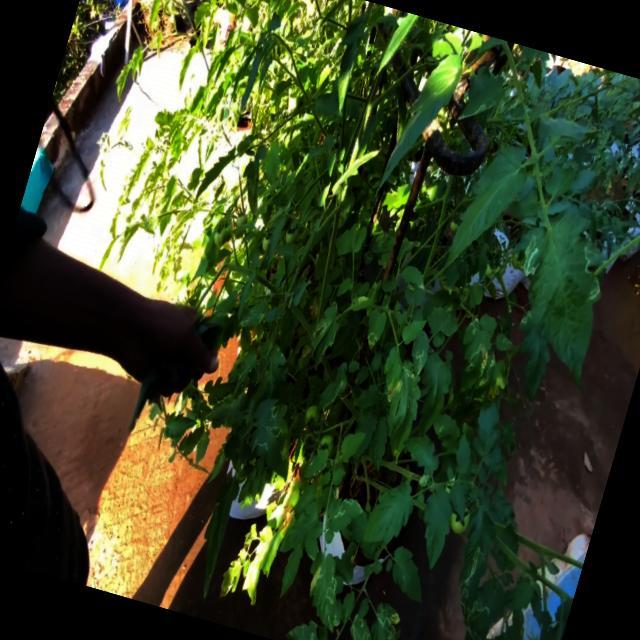Tomato target spot leaf: (490, 201, 624, 388), (442, 504, 503, 623), (238, 392, 308, 483), (446, 308, 509, 406), (499, 307, 562, 405), (297, 550, 353, 634), (303, 298, 346, 374), (455, 68, 507, 130), (316, 358, 352, 418), (321, 492, 365, 538), (360, 600, 409, 640), (404, 327, 434, 378), (360, 305, 390, 352), (236, 294, 270, 332), (282, 612, 328, 640), (345, 612, 377, 640), (370, 228, 392, 256), (492, 332, 514, 354), (360, 248, 375, 267)
